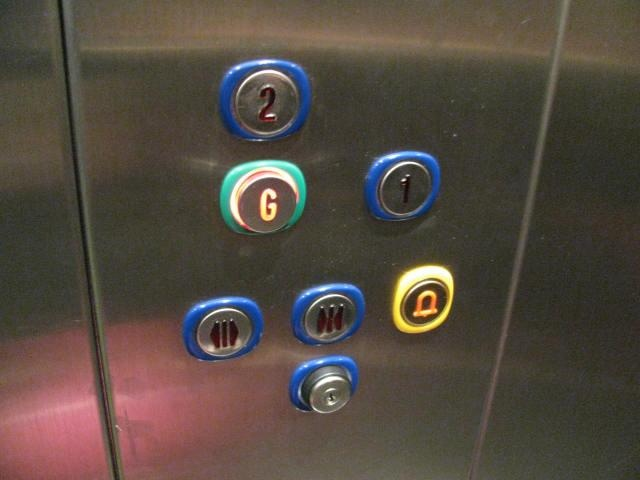1: (365, 151, 441, 228)
2: (217, 57, 312, 145)
G: (219, 158, 308, 239)
alarm: (393, 263, 456, 337)
close: (294, 283, 367, 345)
keyhole: (286, 354, 362, 419)
open: (181, 296, 264, 363)
